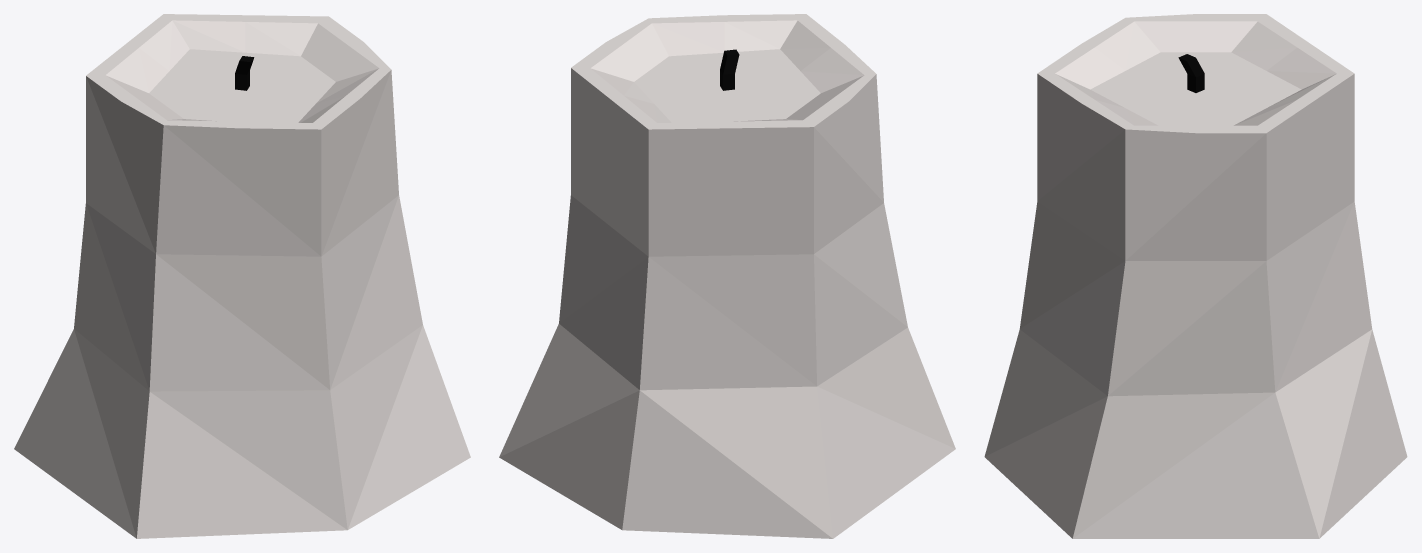
File: Candle.gltf
3 views of the same model, side by side, from view 1: azimuth 30°, elevation 25°; view 2: azimuth 150°, elevation 25°; view 3: azimuth 270°, elevation 25° (orthographic).
Bounding box in the file's own units: 2.75 × 3.12 × 3.
1 material, 1 textured.
